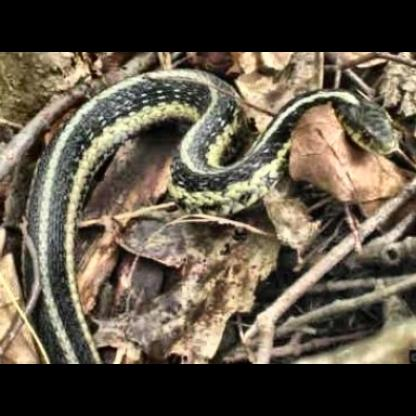Snake: (7, 69, 415, 367)
